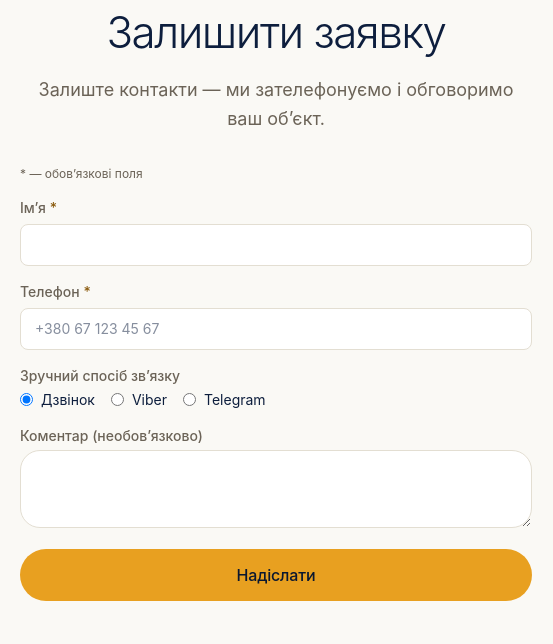
Test: ContactForm › refuses to submit a phone number that is not a phone number
The width and height of the screenshot is (553, 644).
Type "Олена" into the field labelled "Ім’я*".
click(276, 245); type("Олена")  # box left=20, top=224, right=532, bottom=266
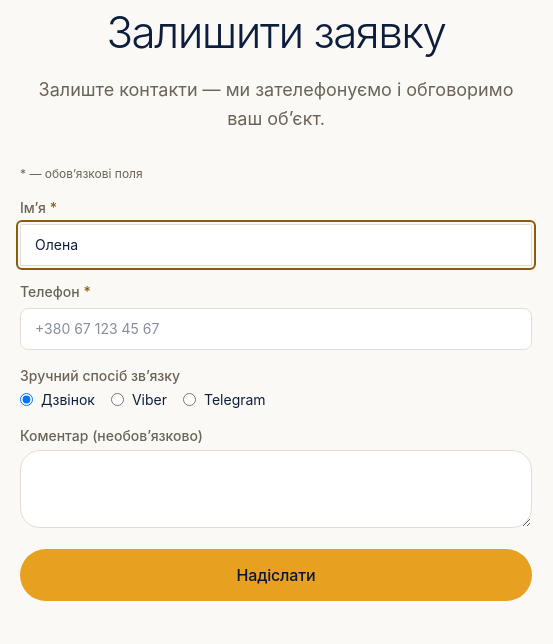
Type "подзвоніть мені" into the field labelled "Телефон*".
click(276, 329); type("подзвоніть мені")  # box left=20, top=308, right=532, bottom=350
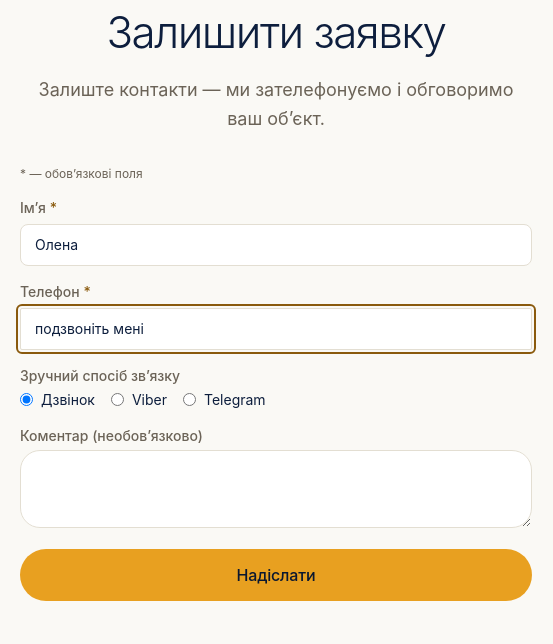
Click the button "Надіслати".
click(276, 575)  # box left=20, top=549, right=532, bottom=601
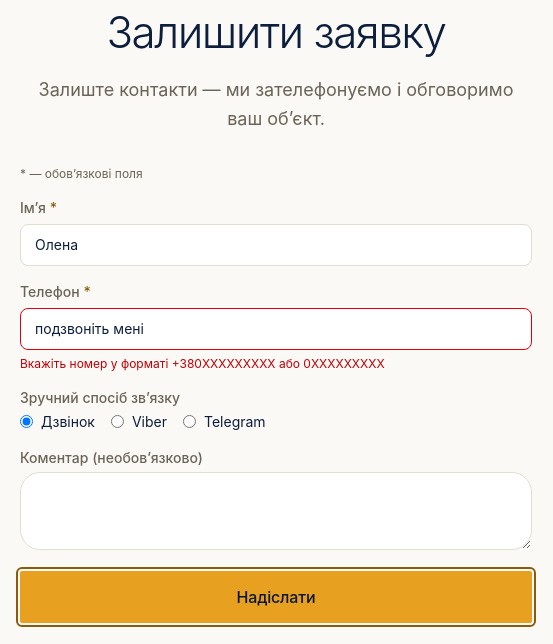
Result: the text "Вкажіть номер у форматі +380XXXXXXXXX або 0XXXXXXXXX" is shown at left=20, top=356, right=385, bottom=371
